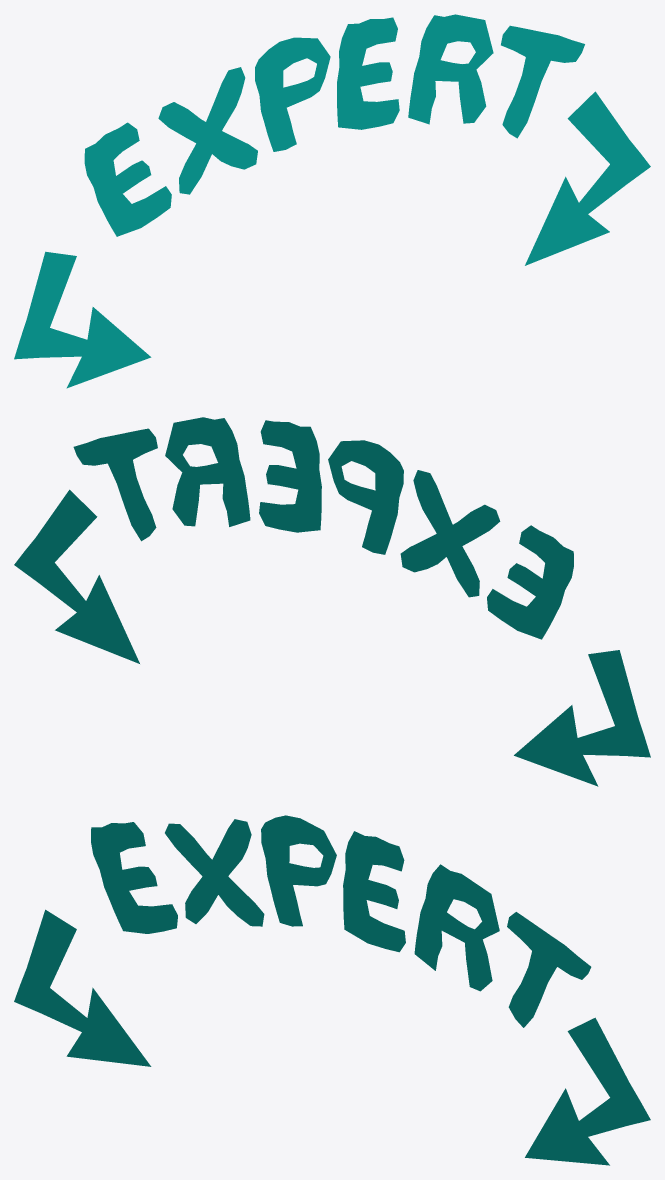
File: mesh_text_expert.fbx
The picture shows the model from 3 angles, top to bottom: view 1: azimuth 30°, elevation 25°; view 2: azimuth 150°, elevation 25°; view 3: azimuth 330°, elevation 25°; orthographic projection.
Visible parts, largest first — view 1: mesh_text_expert2, mesh_text_expert, mesh_text_expert1; view 2: mesh_text_expert2, mesh_text_expert, mesh_text_expert1; view 3: mesh_text_expert2, mesh_text_expert, mesh_text_expert1.
Part boxes in pixels (x1,y1,x2,y2): mesh_text_expert2: (84, 14, 584, 236); mesh_text_expert: (525, 91, 650, 265); mesh_text_expert1: (14, 251, 151, 388); mesh_text_expert2: (73, 417, 573, 639); mesh_text_expert: (14, 489, 139, 663); mesh_text_expert1: (514, 650, 650, 786); mesh_text_expert2: (91, 815, 591, 1027); mesh_text_expert: (525, 1017, 650, 1165); mesh_text_expert1: (14, 909, 151, 1066).
Size of the model in its own units: 0.129 by 0.0566 by 0.0011.
